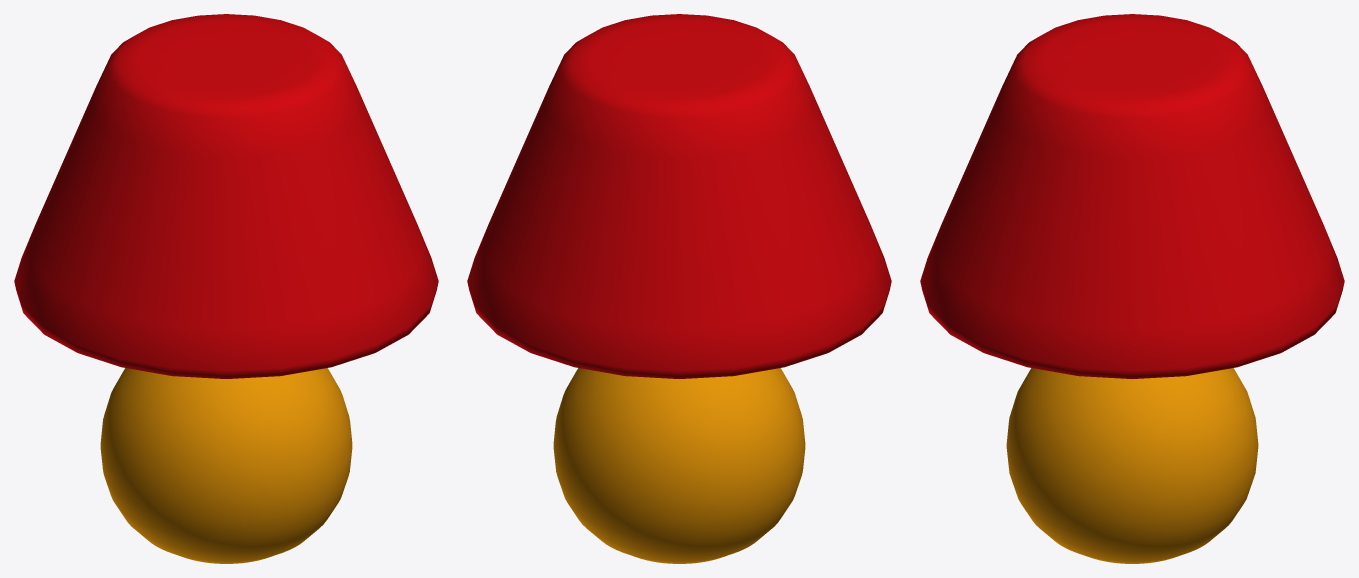
File: lamp_LOD0.fbx
The picture shows the model from 3 angles, left to right: view 1: azimuth 30°, elevation 25°; view 2: azimuth 150°, elevation 25°; view 3: azimuth 270°, elevation 25°; orthographic projection.
Parts seen in each view (by area): view 1: lamp; view 2: lamp; view 3: lamp.
Part boxes in pixels (box(x1,y1,x2,y2)): lamp: box(14, 14, 438, 563); lamp: box(467, 14, 891, 563); lamp: box(920, 14, 1344, 563).
Bounding box in the file's own units: 111 × 140 × 111.
